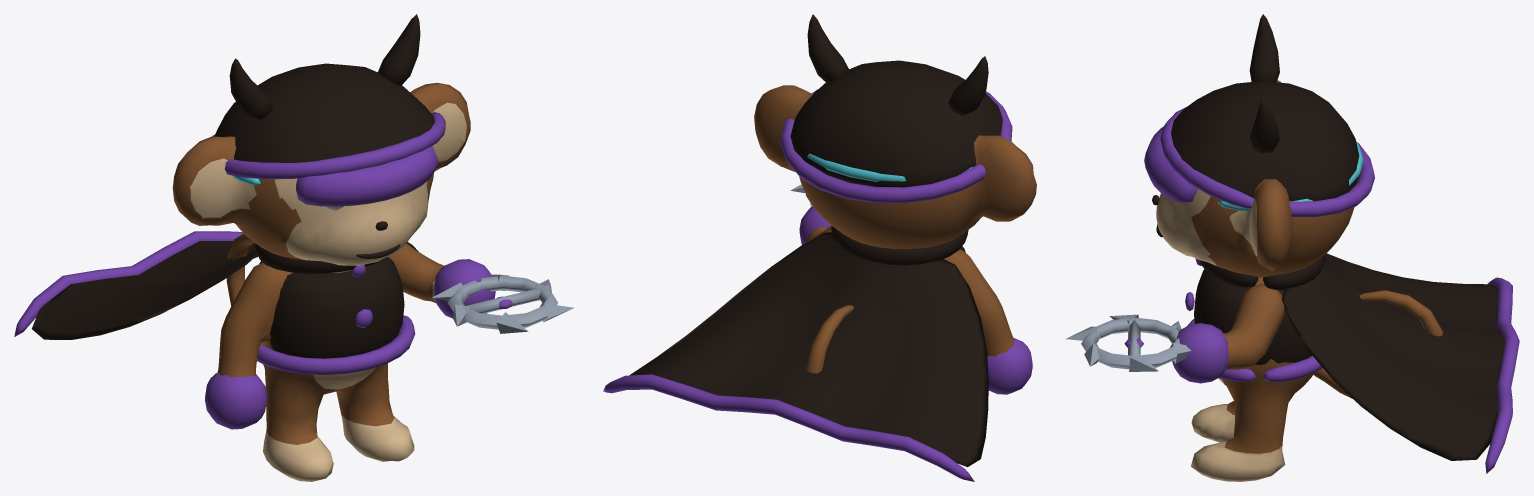
3 views of the same model, side by side, from view 1: azimuth 30°, elevation 25°; view 2: azimuth 150°, elevation 25°; view 3: azimuth 270°, elevation 25° (orthographic). The views are drawn at different scales.
Parts seen in each view (by area): view 1: super_0_corpo, super_2_cabeca, super_3_braco, super_1_cauda; view 2: super_0_corpo, super_2_cabeca, super_1_cauda, super_3_braco; view 3: super_0_corpo, super_2_cabeca, super_3_braco, super_1_cauda.
Part boxes in pixels (bbox=[...]): super_0_corpo: bbox=[14, 231, 418, 481]; super_2_cabeca: bbox=[172, 14, 470, 265]; super_3_braco: bbox=[388, 243, 574, 333]; super_1_cauda: bbox=[226, 233, 254, 306]; super_0_corpo: bbox=[603, 226, 1032, 481]; super_2_cabeca: bbox=[754, 14, 1036, 249]; super_1_cauda: bbox=[805, 305, 853, 373]; super_3_braco: bbox=[790, 184, 831, 244]; super_0_corpo: bbox=[1185, 253, 1519, 481]; super_2_cabeca: bbox=[1144, 14, 1374, 277]; super_3_braco: bbox=[1066, 284, 1284, 383]; super_1_cauda: bbox=[1313, 290, 1443, 398].
Bounding box in the file's own units: 1.31 × 1.34 × 1.37.
